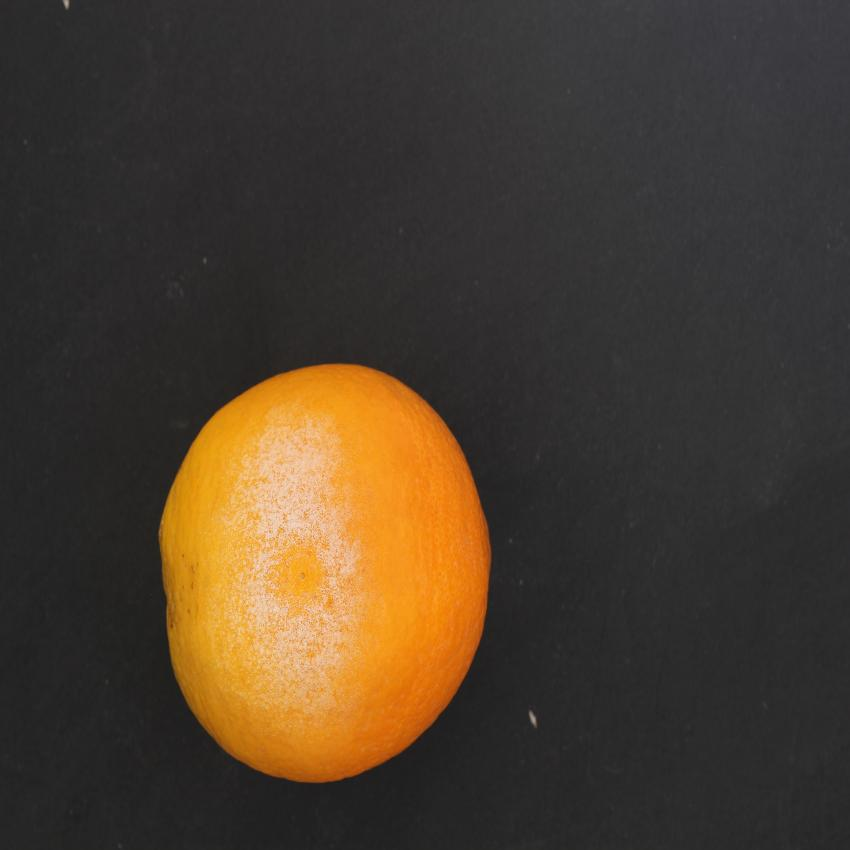Mal estado: (145, 343, 503, 795)
